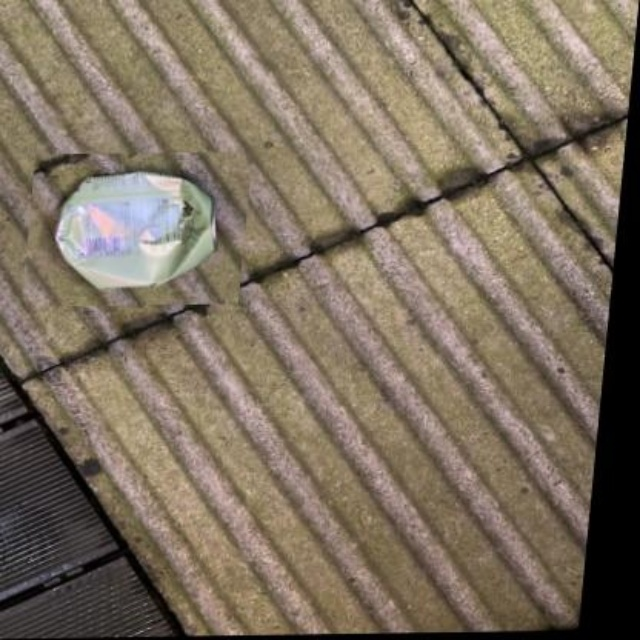trash: (55, 172, 214, 288)
